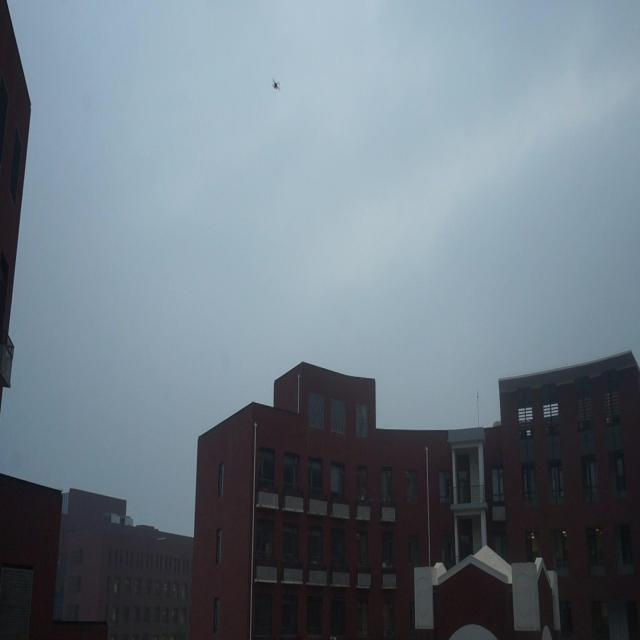UAV: (272, 78, 281, 91)
